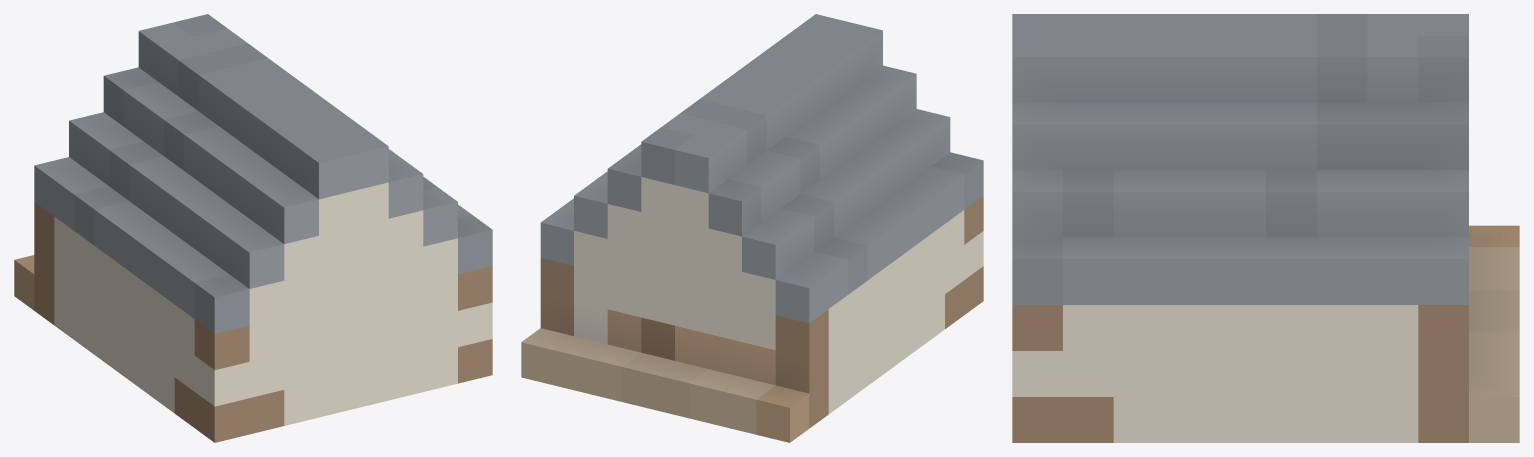
File: printing_press.lite.glb
3 views of the same model, side by side, from view 1: azimuth 30°, elevation 25°; view 2: azimuth 150°, elevation 25°; view 3: azimuth 270°, elevation 25° (orthographic). The views are drawn at different scales.
Parts seen in each view (by area): view 1: printing_press; view 2: printing_press; view 3: printing_press.
Boxes of the visible parts, bbox=[...] form: printing_press: bbox=[14, 14, 492, 442]; printing_press: bbox=[521, 14, 983, 442]; printing_press: bbox=[1012, 14, 1519, 442].
Size of the model in its own units: 4 by 3.5 by 5.
